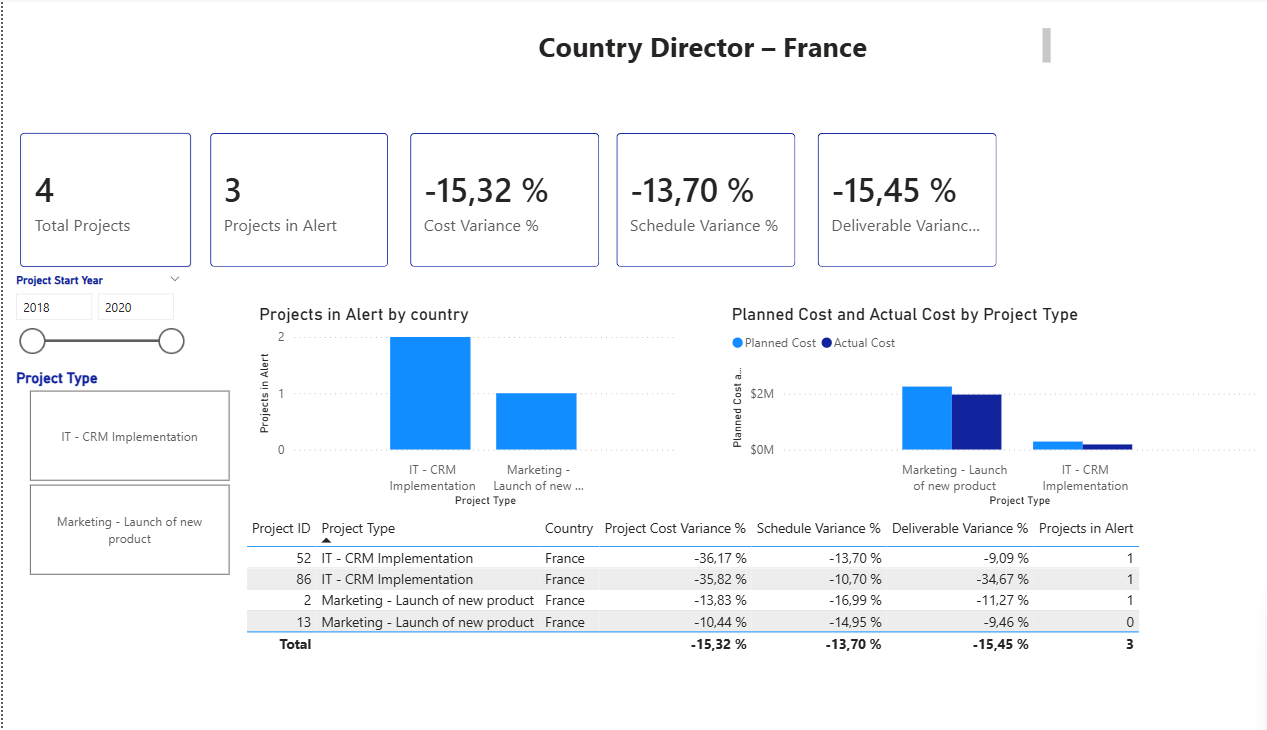

Layout of this report page (visuals, bound fields, positions):
{"tool":"powerbi","page":{"name":"Country Director","canvas":[1280,720],"ordinal":2},"visuals":[{"type":"cardVisual","fields":{"Data":["Actual_Costs.Total Projects"]},"box":[0,115.6,201.2,165.6],"z":0},{"type":"cardVisual","fields":{"Data":["Actual_Costs.Cost Variance %"]},"box":[381.1,115.6,219.8,165.6],"z":1000},{"type":"cardVisual","fields":{"Data":["Actual_Costs.Projects in Alert","Actual_Costs.Projects in Alert","Actual_Costs.Projects in Alert"]},"box":[185.5,115.6,208.4,165.6],"z":2000},{"type":"textbox","box":[346.8,25.7,682.3,44.2],"z":3000},{"type":"cardVisual","fields":{"Data":["Actual_Costs.Schedule Variance %"]},"box":[583.8,115.6,209.8,165.6],"z":4000},{"type":"cardVisual","fields":{"Data":["Actual_Costs.Deliverable Variance %"]},"box":[780.7,115.6,209.8,165.6],"z":6000},{"type":"slicer","fields":{"Values":["Dim_Project.Project Type"]},"box":[0,359.7,245.5,212.7],"z":7000},{"type":"slicer","fields":{"Values":["Dim_Project.Project Start Year"]},"box":[0,265.5,185.5,94.2],"z":8000},{"type":"clusteredColumnChart","title":"Projects in Alert by country","fields":{"Y":["Actual_Costs.Projects in Alert"],"Category":["Dim_Project.Project Type"]},"box":[245.5,299.7,418.2,204.1],"z":9000},{"type":"clusteredColumnChart","fields":{"Category":["Dim_Project.Project Type"],"Y":["Actual_Costs.Planned Cost","Actual_Costs.Actual Cost"]},"box":[707.9,299.7,522.4,204.1],"z":10000},{"type":"tableEx","fields":{"Values":["Dim_Project.Project ID","Dim_Project.Project Type","Dim_Project.Country","Actual_Costs.Project Cost Variance %","Actual_Costs.Schedule Variance %","Actual_Costs.Deliverable Variance %","Actual_Costs.Projects in Alert"]},"box":[232.7,503.8,976.3,201.2],"z":11000}]}

Visuals, with their boxes in screenshot pixels (x1, y1, x2, y2), scaled from the page's 1280x720 canvas onto the 1267x730 screenshot:
cardVisual - Actual_Costs.Total Projects: left=0, top=117, right=199, bottom=285
cardVisual - Actual_Costs.Cost Variance %: left=377, top=117, right=595, bottom=285
cardVisual - Actual_Costs.Projects in Alert x Actual_Costs.Projects in Alert: left=184, top=117, right=390, bottom=285
textbox: left=343, top=26, right=1019, bottom=71
cardVisual - Actual_Costs.Schedule Variance %: left=578, top=117, right=786, bottom=285
cardVisual - Actual_Costs.Deliverable Variance %: left=773, top=117, right=980, bottom=285
slicer - Dim_Project.Project Type: left=0, top=365, right=243, bottom=580
slicer - Dim_Project.Project Start Year: left=0, top=269, right=184, bottom=365
"Projects in Alert by country" clusteredColumnChart: left=243, top=304, right=657, bottom=511
clusteredColumnChart - Dim_Project.Project Type x Actual_Costs.Planned Cost: left=701, top=304, right=1218, bottom=511
tableEx - Dim_Project.Project ID x Dim_Project.Project Type: left=230, top=511, right=1197, bottom=715
